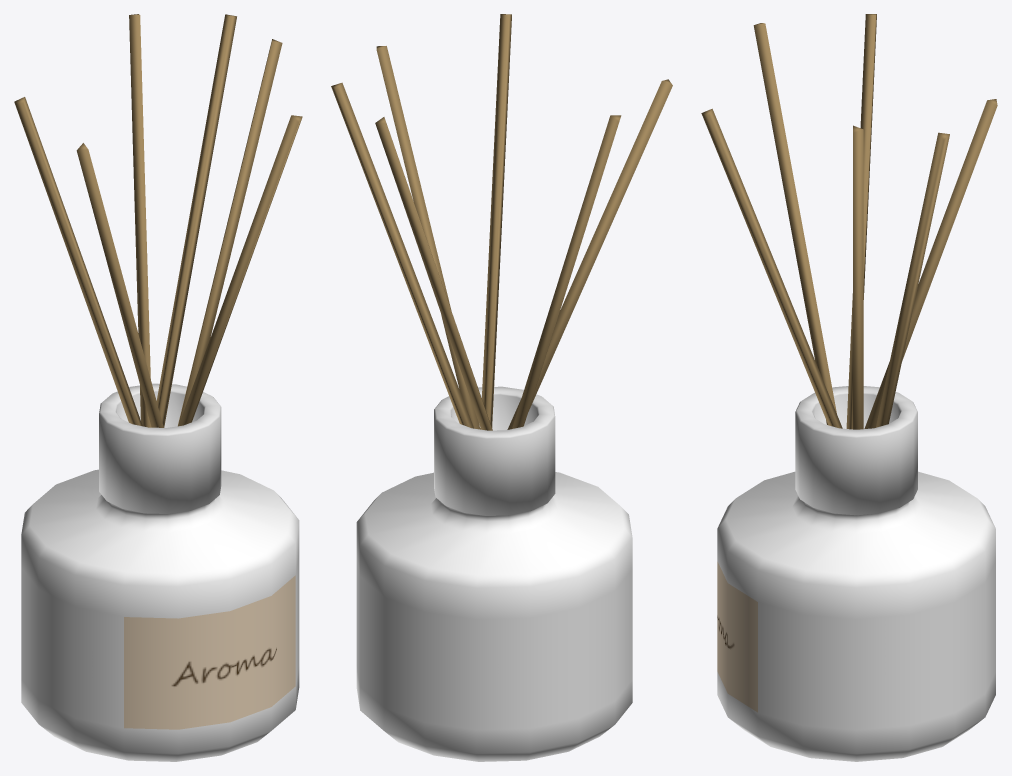
The model's file is aroma-read-diffuser.glb.
The picture shows the model from 3 angles, left to right: view 1: azimuth 30°, elevation 25°; view 2: azimuth 150°, elevation 25°; view 3: azimuth 270°, elevation 25°; orthographic projection.
Visible parts, largest first — view 1: __X_BOTTLE__bottle, Stick.001, Stick.002, Stick.004, Stick, Stick.005, Stick.003; view 2: __X_BOTTLE__bottle, Stick.005, Stick.001, Stick.003, Stick.004, Stick.002, Stick; view 3: __X_BOTTLE__bottle, Stick.003, Stick.005, Stick.001, Stick.004, Stick, Stick.002.
Part boxes in pixels (bbox=[...]): __X_BOTTLE__bottle: bbox=[21, 383, 299, 761]; Stick.001: bbox=[156, 14, 236, 427]; Stick.002: bbox=[14, 97, 142, 426]; Stick.004: bbox=[129, 14, 151, 427]; Stick: bbox=[178, 39, 282, 426]; Stick.005: bbox=[178, 115, 302, 425]; Stick.003: bbox=[76, 143, 163, 427]; __X_BOTTLE__bottle: bbox=[356, 386, 632, 761]; Stick.005: bbox=[480, 14, 511, 429]; Stick.001: bbox=[331, 82, 474, 428]; Stick.003: bbox=[507, 79, 672, 429]; Stick.004: bbox=[375, 117, 492, 430]; Stick.002: bbox=[512, 115, 621, 428]; Stick: bbox=[376, 46, 480, 429]; __X_BOTTLE__bottle: bbox=[717, 386, 995, 761]; Stick.003: bbox=[753, 23, 836, 424]; Stick.005: bbox=[701, 108, 842, 428]; Stick.001: bbox=[875, 132, 949, 427]; Stick.004: bbox=[864, 99, 997, 428]; Stick: bbox=[853, 125, 863, 429]; Stick.002: bbox=[846, 14, 876, 429].
Size of the model in its own units: 0.0847 by 0.2021 by 0.085.
5 materials, 1 textured.
